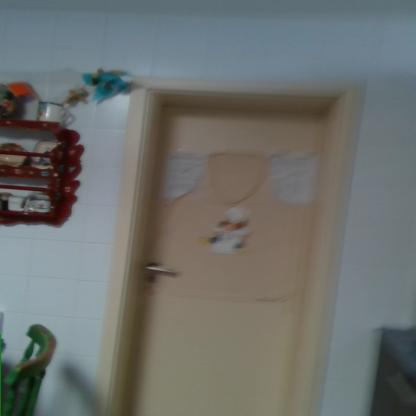closed: (110, 69, 364, 408)
